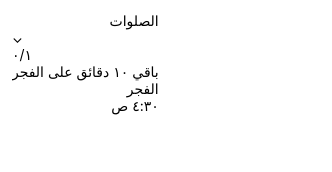
Test: WirdChecklist › shows prayer times and keeps the status line visible when prayers collapse
This screenshot has width=332, height=172.
expect the text with test id "prayer-status" reads "باقي ١٠ دقائق على الفجر": met, box [12,63,159,80]
Click the button with test id "area-header-prayers". click: (85, 38)
box: [12,12,159,63]
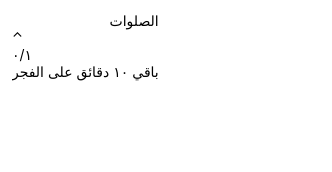
expect the text "باقي ١٠ دقائق على الفجر" is shown: met, box [12,63,159,80]
expect the element with test id "area-items-prayers" is gone: met
